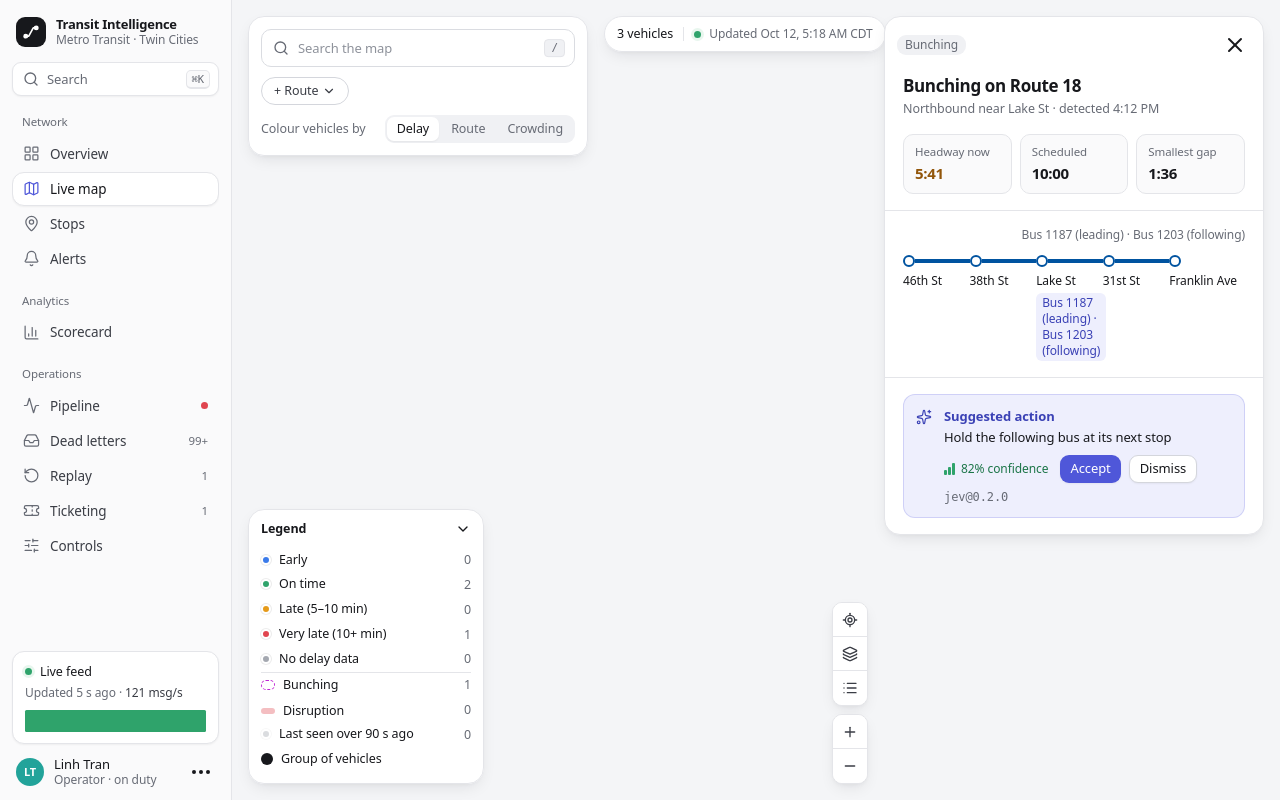
Test case: live map › AC-5 an operator's Accept changes the button before the API answers, then posts the feedback
The image size is (1280, 800).
What coordinates should you click on to do the following:
click the button "Accept"
I would click on:
 (1091, 469)
Its box is top-left (1060, 455), bottom-right (1121, 483).
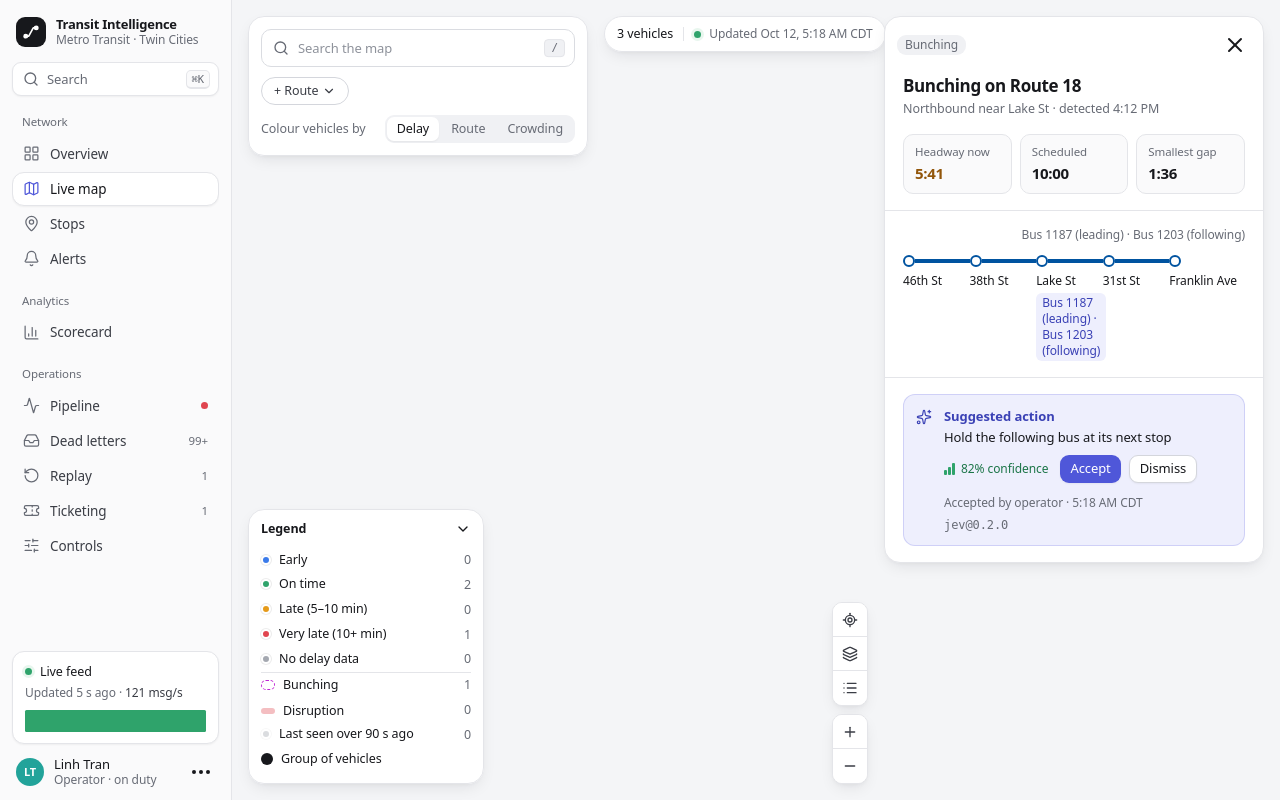
Check: the text "Accepted by operator · 5:18 AM CDT" is shown, box top-left (944, 495), bottom-right (1143, 511)
